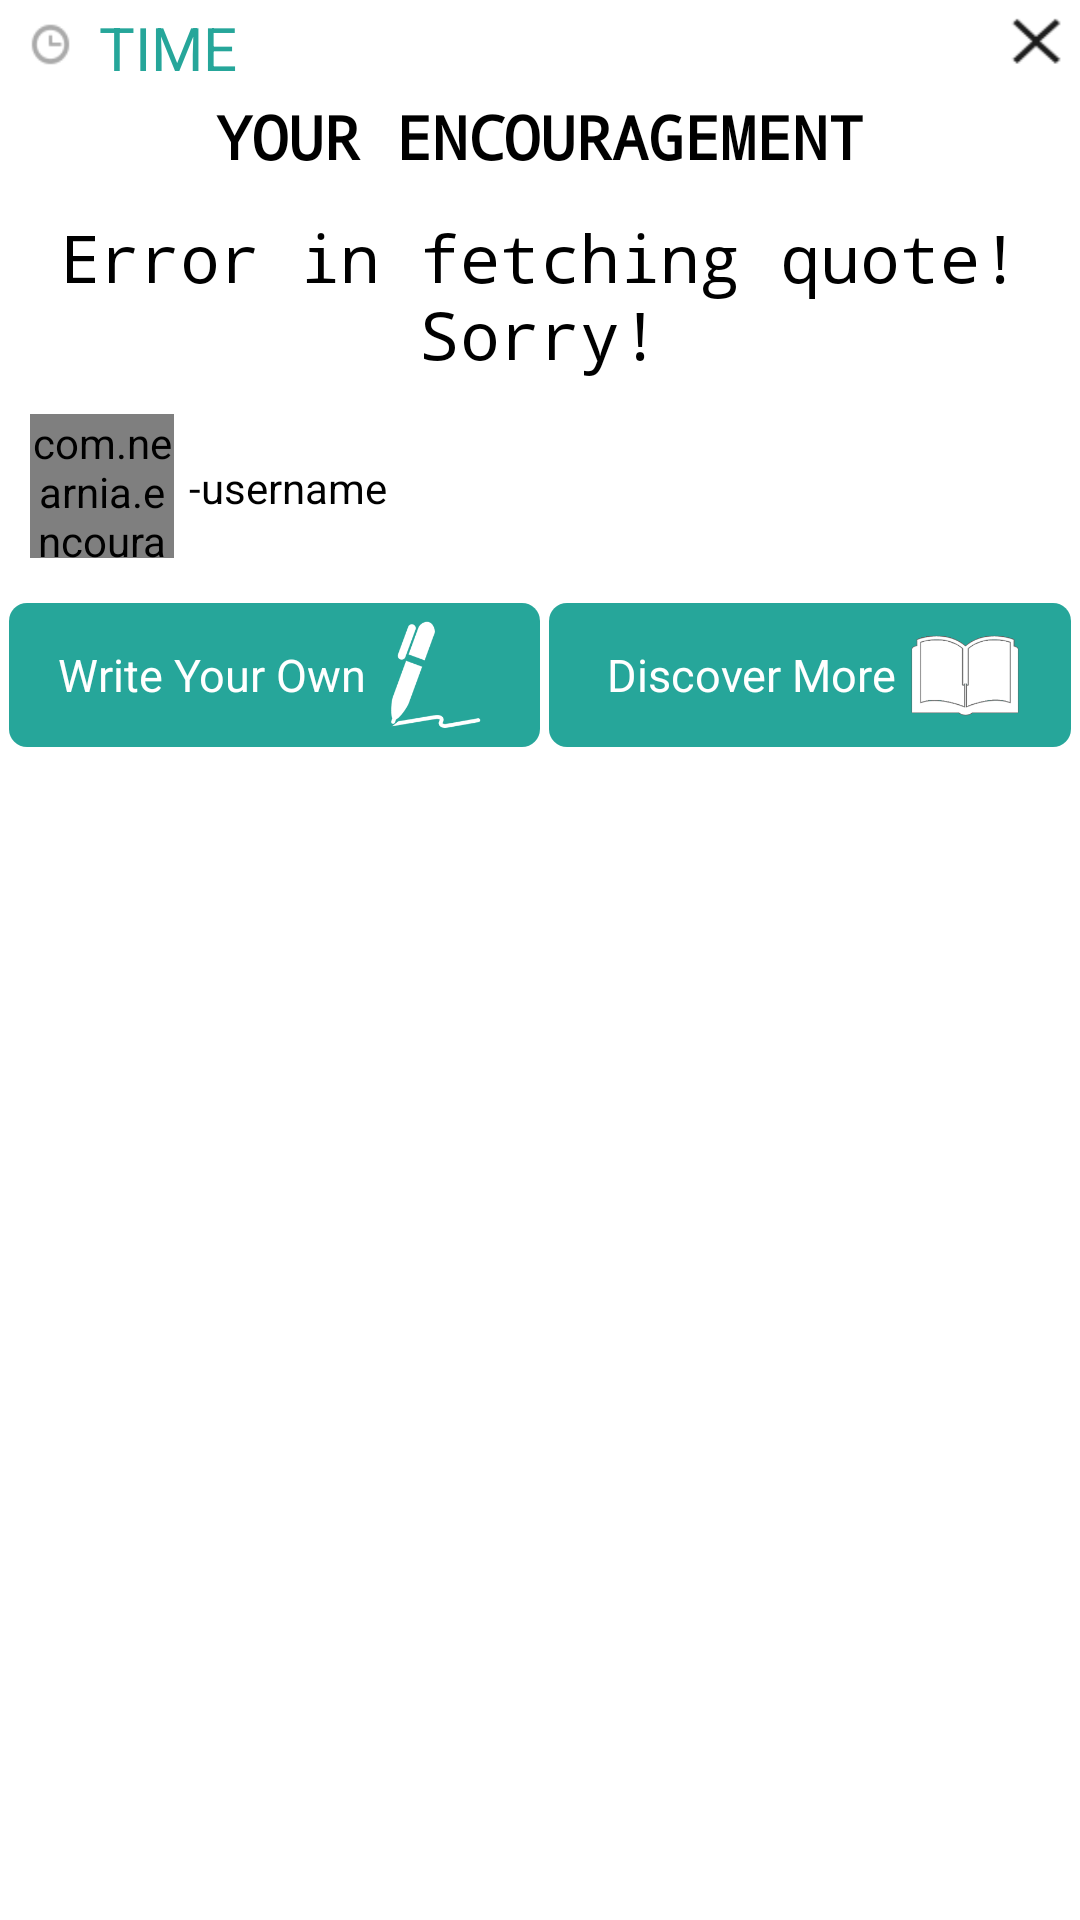

Screen size 1080 × 1920. Icon name, then its box in pixels as [x1,y1,x2,y2]:
close: [1012,19,1061,64]
whitebook: [911,636,1019,716]
whitepen: [391,621,481,728]
